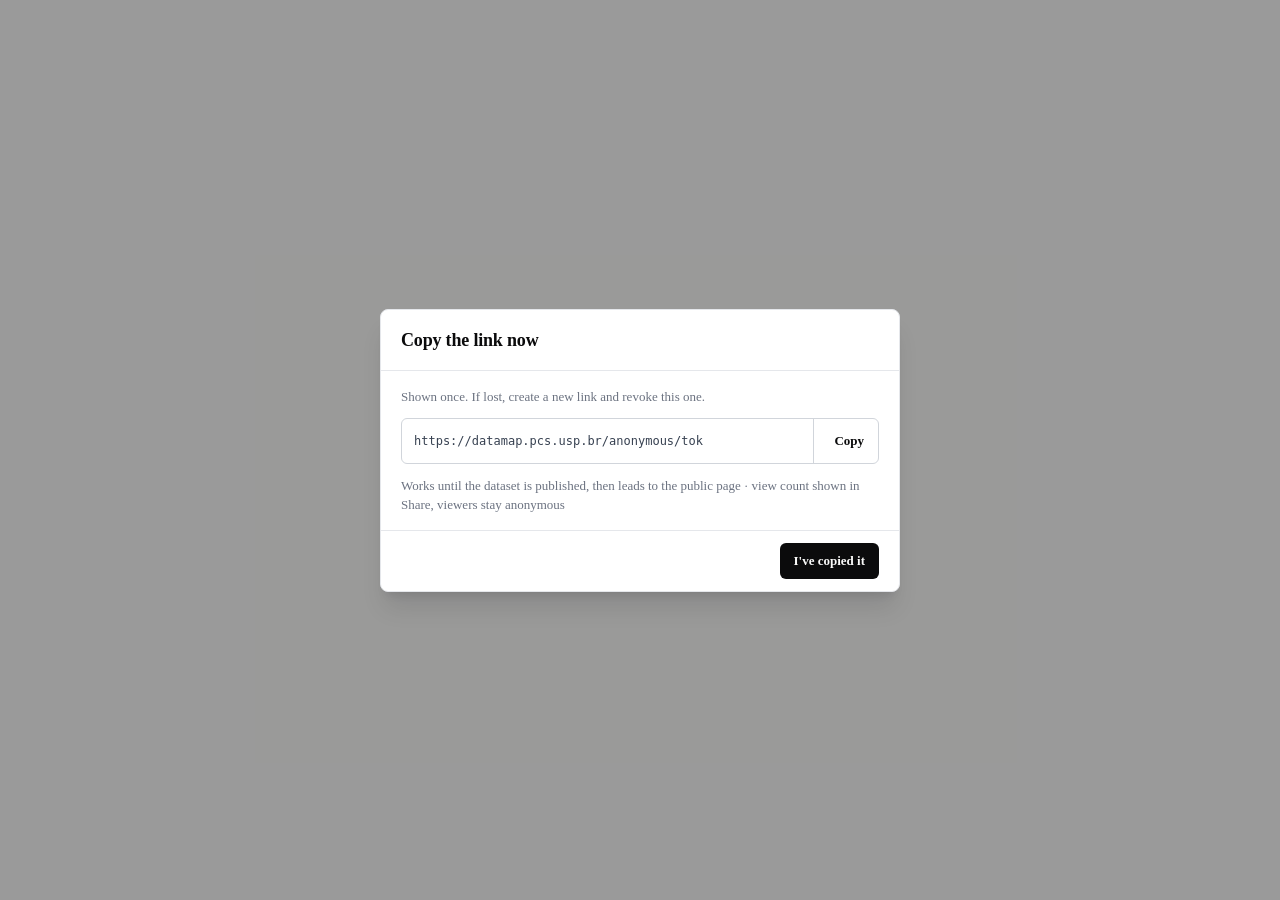
it: OneTimeLinkDialog › without a clipboard, the link is selected and the user is asked to copy it, not told it was copied
Click the button "Copy".
click(846, 440)  # box [813,418,878,462]
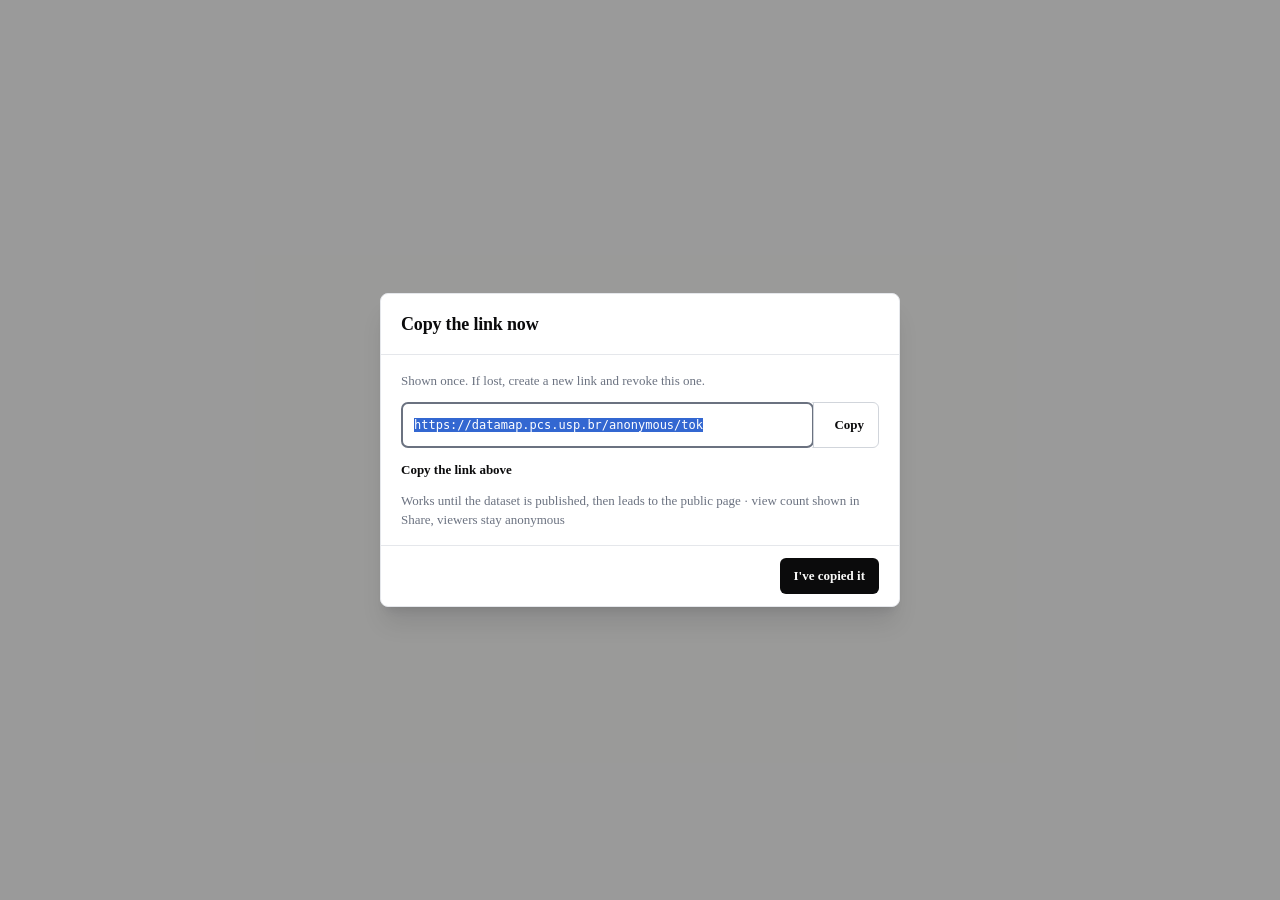
Check: the text "Copy the link above" is shown, box [401,462,512,477]
